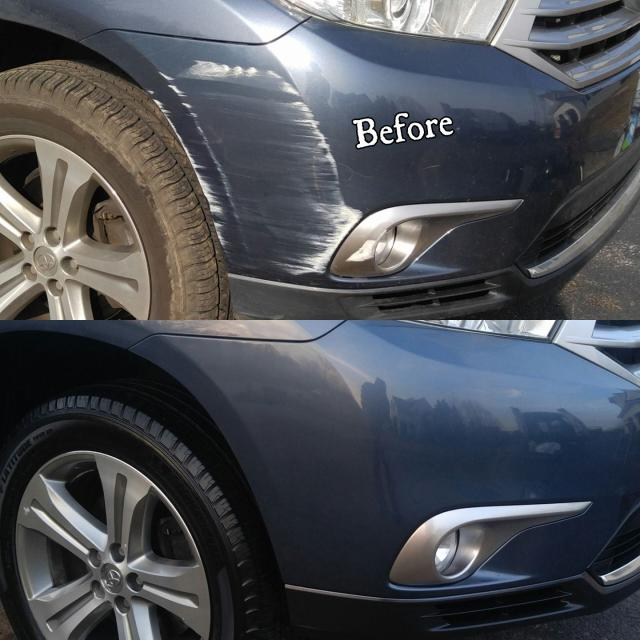scratch: (140, 59, 364, 287)
